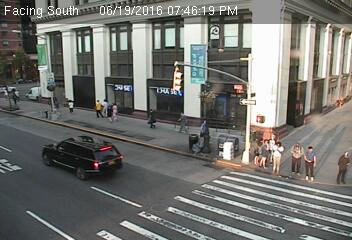neg: (130, 49, 155, 83), (77, 51, 101, 83), (223, 46, 247, 77), (161, 173, 183, 201), (54, 149, 75, 177), (99, 155, 120, 183), (328, 63, 348, 90), (13, 68, 32, 93), (49, 56, 66, 78), (299, 83, 315, 104), (202, 56, 213, 71)
pos: (303, 145, 331, 182), (281, 141, 306, 175), (331, 147, 351, 186), (143, 107, 161, 131), (173, 110, 191, 134), (87, 98, 103, 119), (64, 98, 77, 115)
